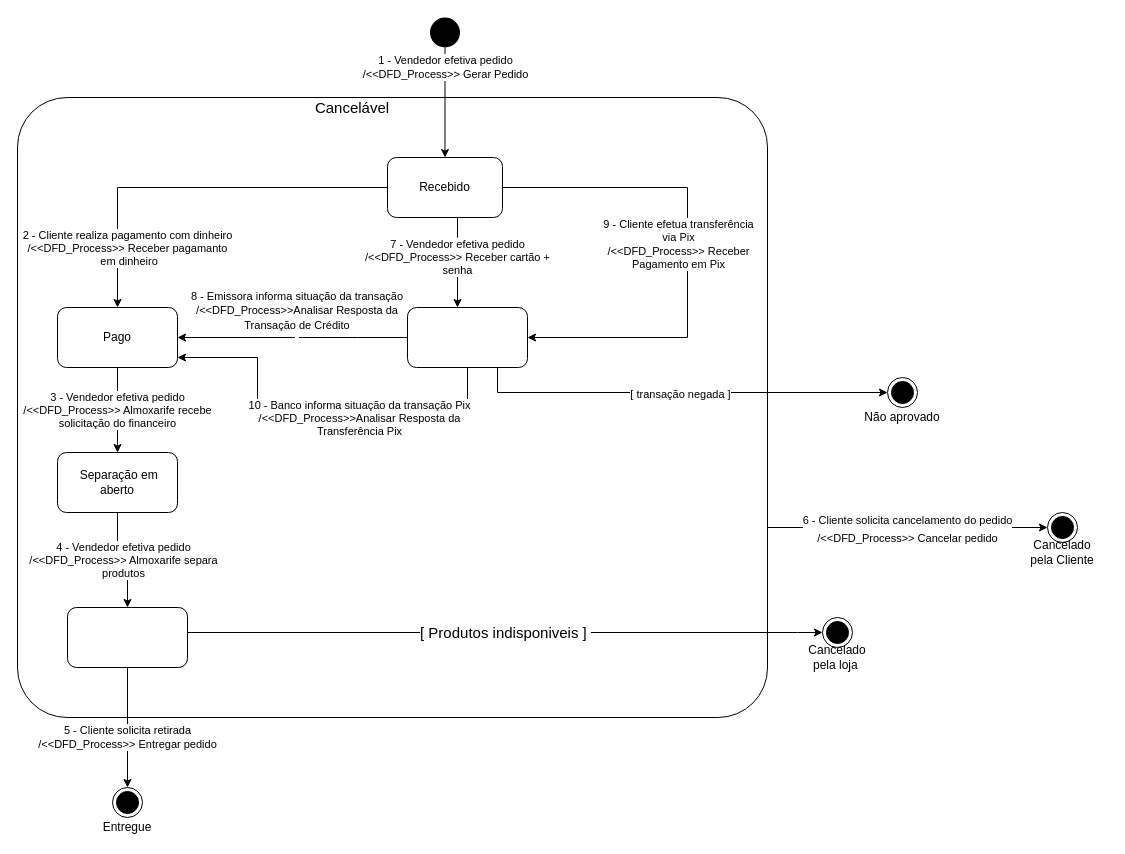
This 1125x854 diagram has some shape labels left out. Here are the shapes that lost their labels. From the top down, the box of each, then its label:
(406, 306, 528, 368): Pagamento em análise
(66, 606, 188, 668): Em Separação
